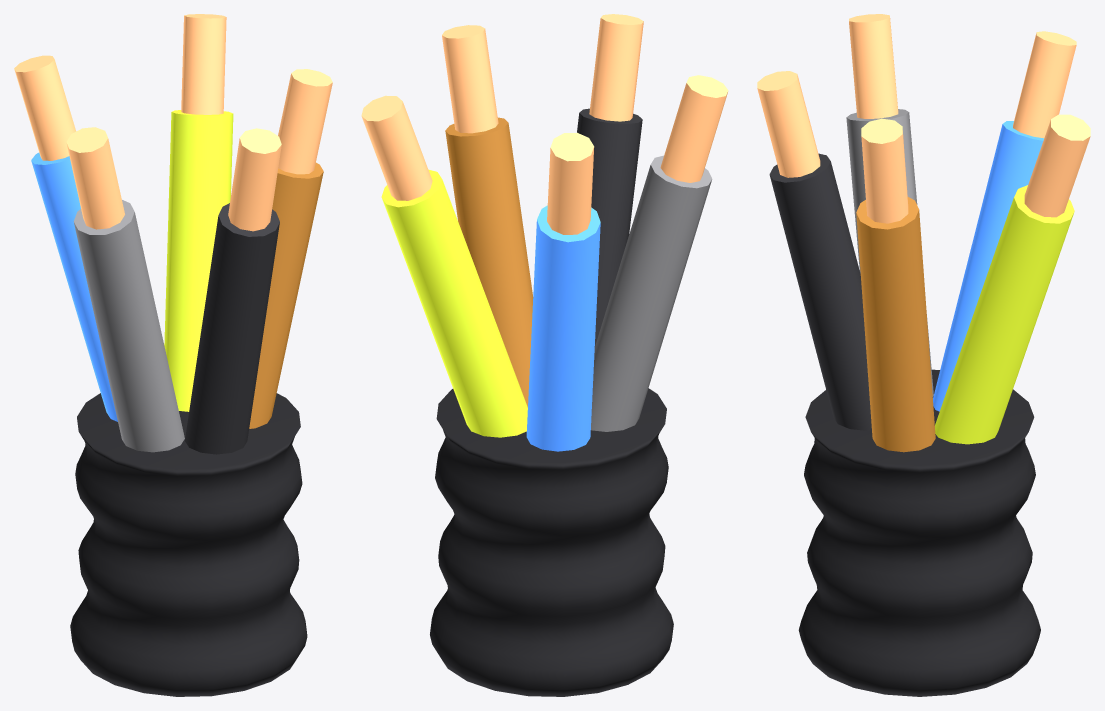
Rendered from hv_end.glb.
3 renders of one model, left to right at view 1: azimuth 30°, elevation 25°; view 2: azimuth 150°, elevation 25°; view 3: azimuth 270°, elevation 25°, orthographic. The views are drawn at different scales.
Visible parts, largest first — view 1: wires (×5), tape, copper; view 2: wires (×5), tape, copper; view 3: tape, wires (×5), copper.
Part boxes in pixels (bbox=[...]): wires (×5): bbox=[31, 110, 323, 454]; tape: bbox=[70, 393, 307, 696]; copper: bbox=[14, 14, 332, 231]; wires (×5): bbox=[381, 108, 712, 451]; tape: bbox=[430, 388, 673, 696]; copper: bbox=[361, 14, 728, 234]; tape: bbox=[798, 369, 1040, 696]; wires (×5): bbox=[769, 109, 1074, 452]; copper: bbox=[757, 14, 1090, 223].
Size of the model in its own units: 3.18 by 6.42 by 3.38.
